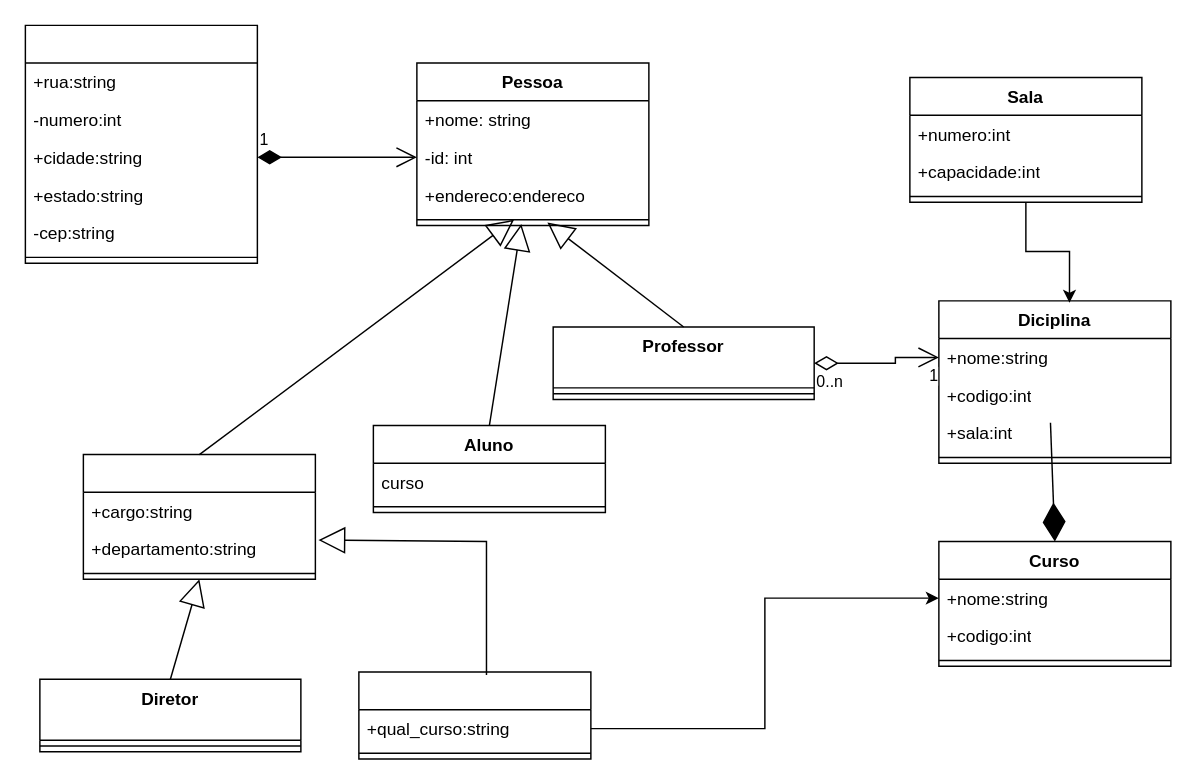
The diagram is 1196 pixels wide and 784 high, and some of its shapes have lost their labels. The shapes that lost their labels are listed below. From the top down, each one's box as (x1, y1, x2, y2) in pixels, then its label:
(24, 24, 257, 263): Endereco
(82, 453, 315, 579): Servidor
(357, 671, 591, 759): Coordenador
